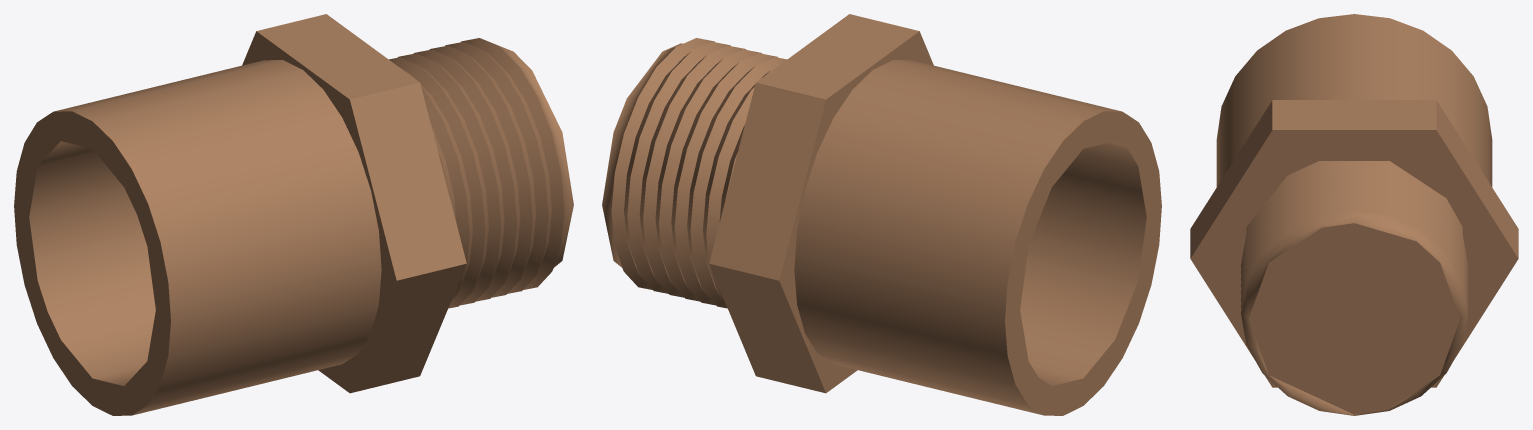
The model's file is HID-CNX-006_lod1.glb.
The picture shows the model from 3 angles, left to right: view 1: azimuth 30°, elevation 25°; view 2: azimuth 150°, elevation 25°; view 3: azimuth 270°, elevation 25°; orthographic projection. The views are drawn at different scales.
Visible parts, largest first — view 1: HID-CNX-006_bolsa, HID-CNX-006_sext, HID-CNX-006_rosca; view 2: HID-CNX-006_bolsa, HID-CNX-006_sext, HID-CNX-006_rosca; view 3: HID-CNX-006_rosca, HID-CNX-006_sext, HID-CNX-006_bolsa.
Boxes of the visible parts, <box> form: HID-CNX-006_bolsa: <box>14,60,381,415</box>; HID-CNX-006_sext: <box>242,14,466,393</box>; HID-CNX-006_rosca: <box>389,38,573,308</box>; HID-CNX-006_bolsa: <box>794,60,1161,415</box>; HID-CNX-006_sext: <box>709,14,933,393</box>; HID-CNX-006_rosca: <box>602,38,786,308</box>; HID-CNX-006_rosca: <box>1241,161,1467,415</box>; HID-CNX-006_sext: <box>1190,100,1518,387</box>; HID-CNX-006_bolsa: <box>1216,14,1492,186</box>.
Size of the model in its own units: 0.048 by 0.032 by 0.037.
